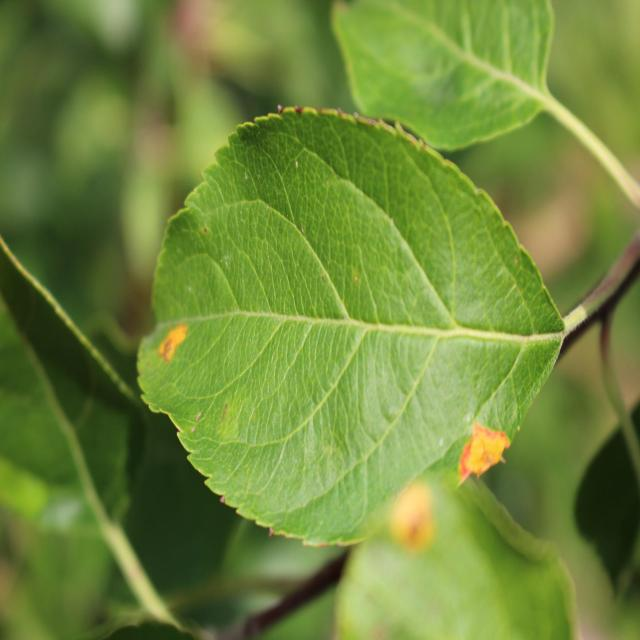Rust: (441, 414, 527, 492), (384, 458, 442, 569), (148, 302, 192, 380)
